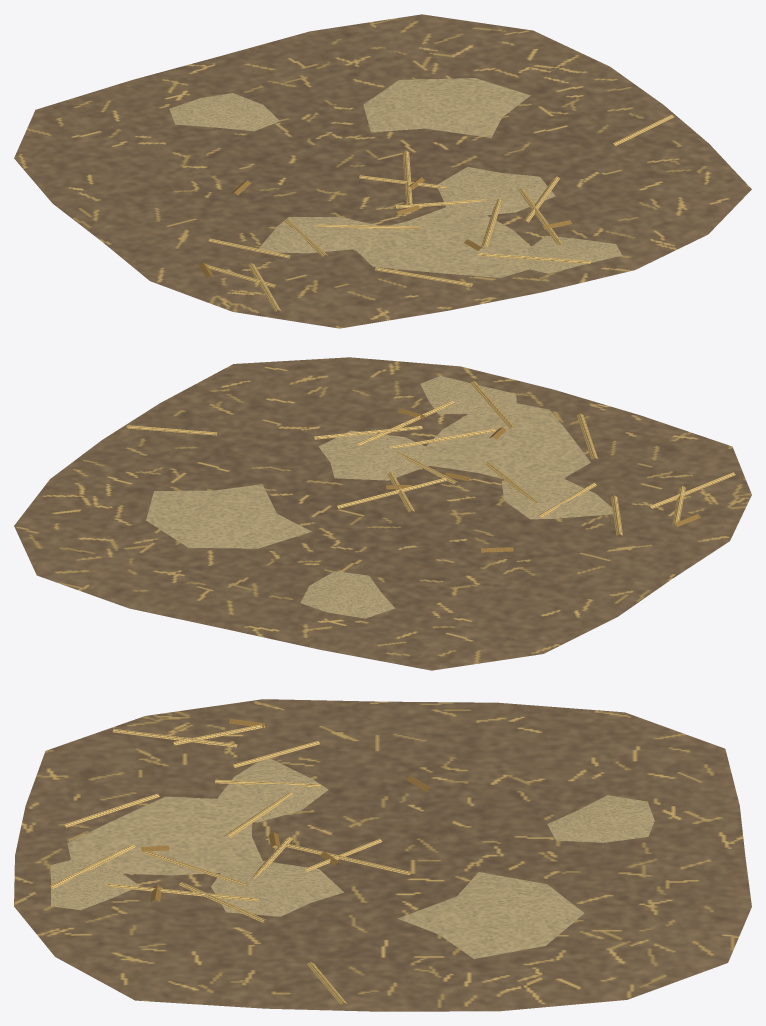
The model's file is threshing_floor_strewn.glb.
3 renders of one model, top to bottom at view 1: azimuth 30°, elevation 25°; view 2: azimuth 150°, elevation 25°; view 3: azimuth 270°, elevation 25°, orthographic. The views are drawn at different scales.
Parts seen in each view (by area): view 1: THRESHING_FLOOR; view 2: THRESHING_FLOOR; view 3: THRESHING_FLOOR.
Part boxes in pixels (x1,y1,x2,y2): THRESHING_FLOOR: [14, 14, 751, 328]; THRESHING_FLOOR: [14, 357, 751, 670]; THRESHING_FLOOR: [14, 699, 751, 1011].
Size of the model in its own units: 2 by 0.017 by 1.99.
Materials: 1 (1 with a texture image).
